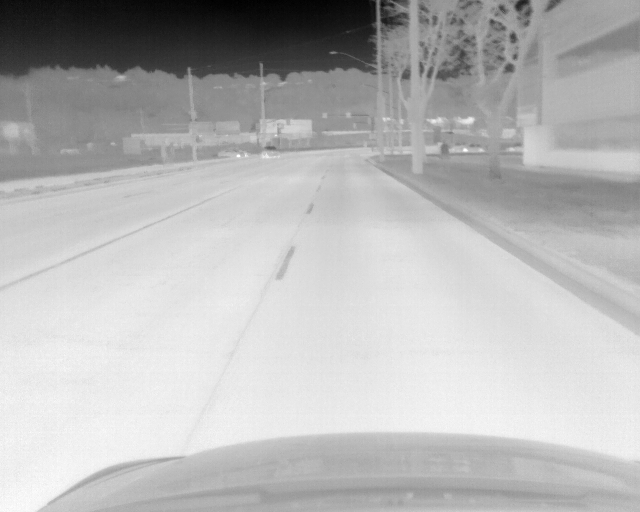car: (217, 148, 248, 158), (260, 145, 283, 158), (462, 142, 485, 153), (503, 143, 523, 151)
